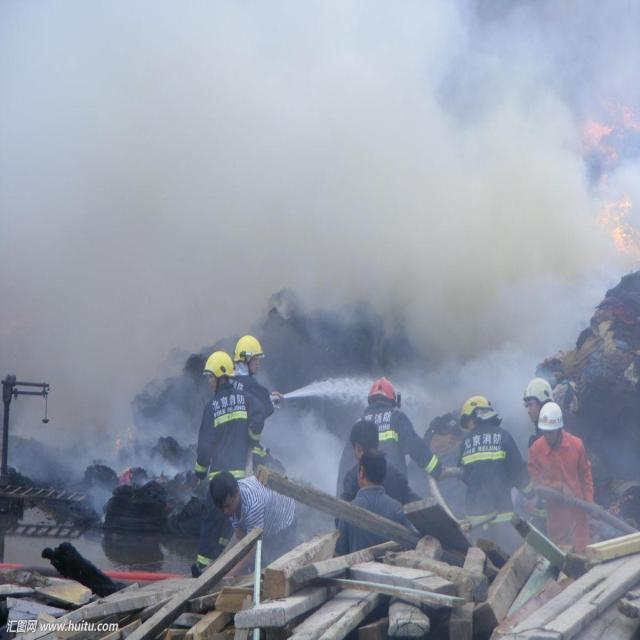Fire: (587, 77, 640, 284)
Smoke: (0, 1, 579, 344)
